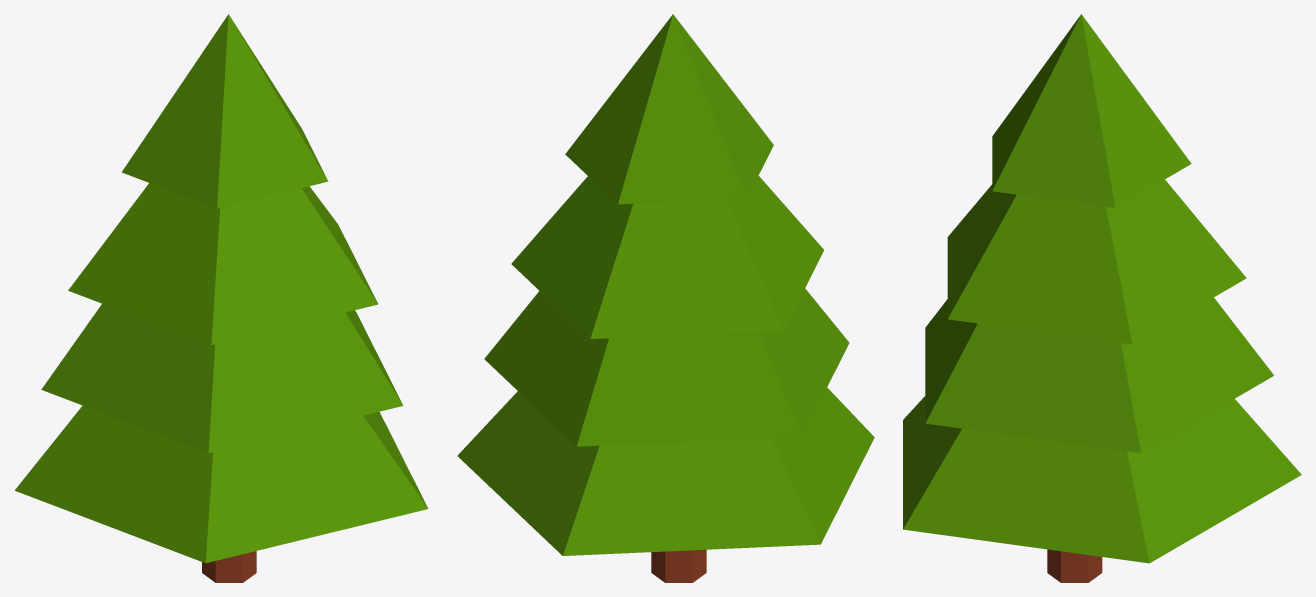
File: grantre.fbx
3 views of the same model, side by side, from view 1: azimuth 30°, elevation 25°; view 2: azimuth 150°, elevation 25°; view 3: azimuth 270°, elevation 25° (orthographic).
Visible parts, largest first — view 1: Cone, Cone.001, Cone.002, Cone.003, Cylinder; view 2: Cone, Cone.001, Cone.002, Cone.003, Cylinder; view 3: Cone, Cone.001, Cone.002, Cone.003, Cylinder.
Part boxes in pixels (x1,y1,x2,y2): Cone: (15, 405, 428, 563); Cone.001: (41, 303, 403, 453); Cone.002: (68, 183, 378, 344); Cone.003: (122, 14, 328, 208); Cylinder: (202, 551, 256, 582); Cone: (457, 387, 874, 555); Cone.001: (484, 288, 849, 446); Cone.002: (511, 175, 823, 338); Cone.003: (565, 14, 773, 204); Cylinder: (651, 549, 706, 582); Cone: (903, 396, 1301, 563); Cone.001: (925, 297, 1273, 452); Cone.002: (947, 179, 1246, 344); Cone.003: (992, 14, 1191, 207); Cylinder: (1047, 549, 1102, 582).
Size of the model in its own units: 761 by 1121 by 724.
